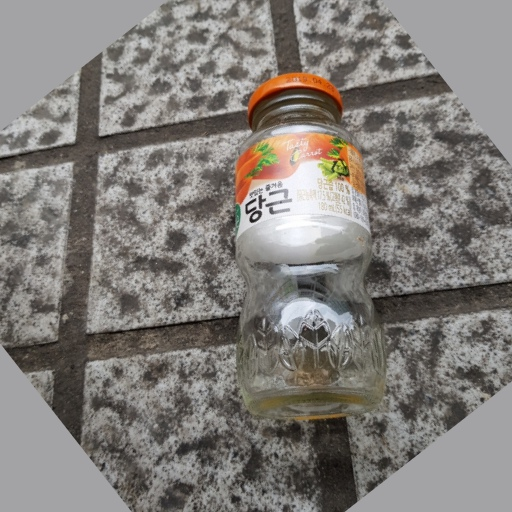Glass_4: (225, 74, 386, 426)
